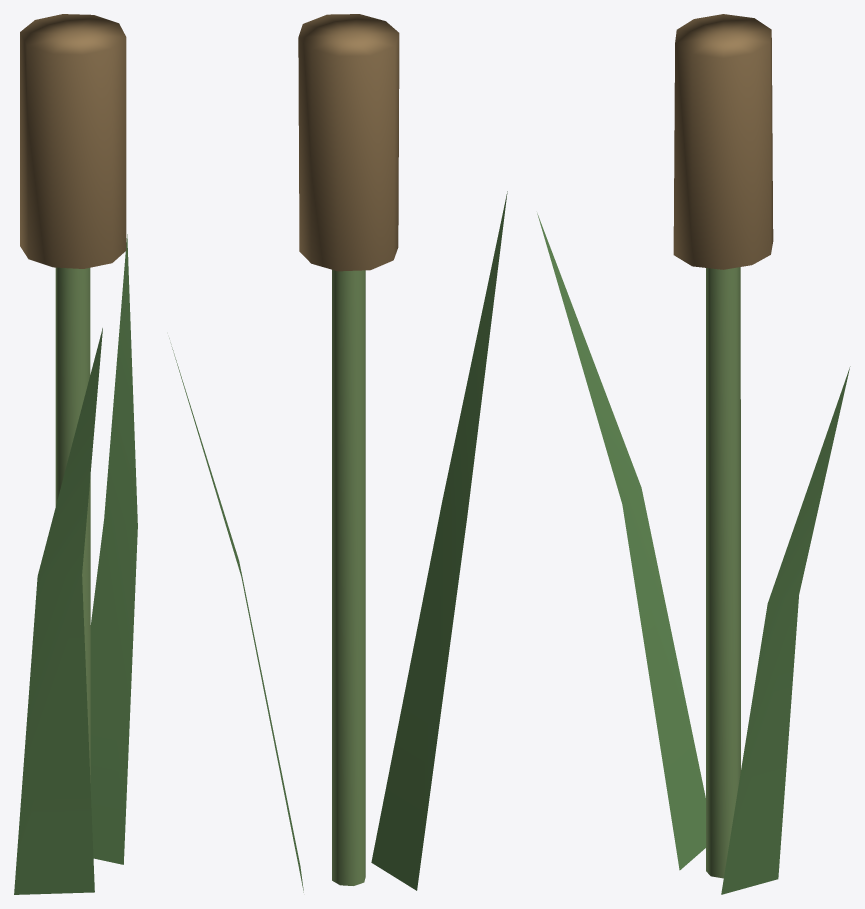
File: cattail.glb
The picture shows the model from 3 angles, left to right: view 1: azimuth 30°, elevation 25°; view 2: azimuth 150°, elevation 25°; view 3: azimuth 270°, elevation 25°; orthographic projection.
Parts seen in each view (by area): view 1: cattail; view 2: cattail; view 3: cattail.
Part boxes in pixels (<box>): cattail: <box>14,14,137,894</box>; cattail: <box>169,14,507,892</box>; cattail: <box>537,14,850,894</box>.
Bounding box in the file's own units: 0.1528 × 0.63 × 0.2149.
